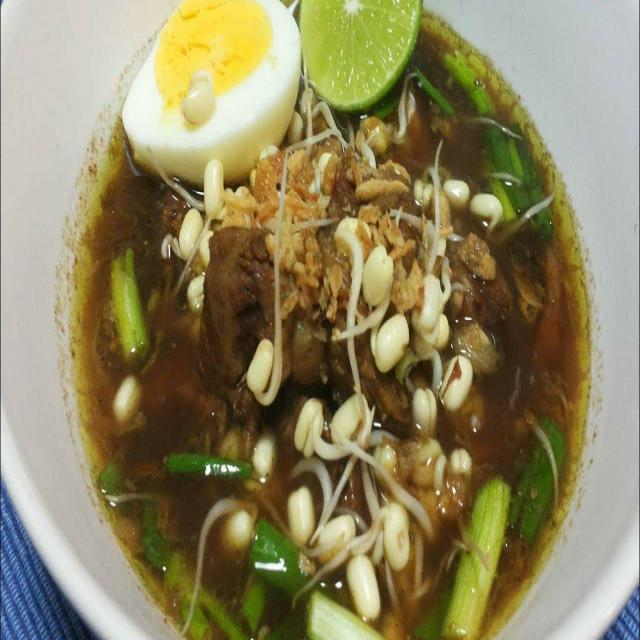Rawon: (94, 40, 571, 618)
